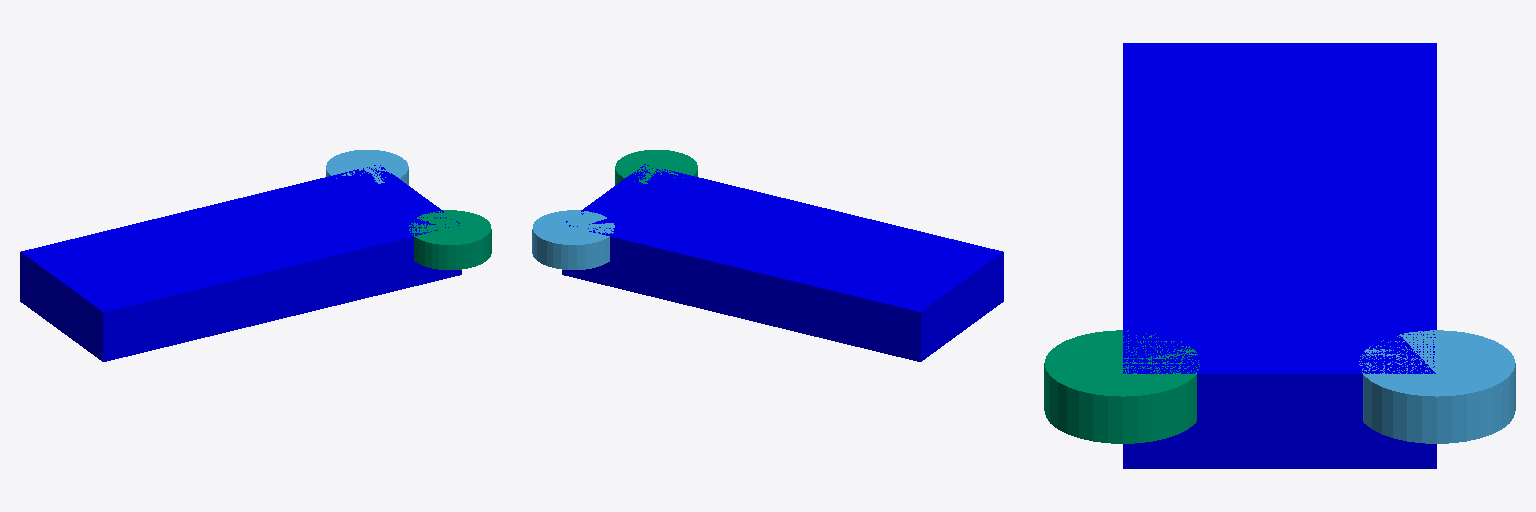
URDF robot description (ev_rwd):
<?xml version="1.0" ?>
<!-- =================================================================================== -->
<!-- |    This document was autogenerated by xacro from ev_rwd.urdf.xacro              | -->
<!-- |    EDITING THIS FILE BY HAND IS NOT RECOMMENDED                                 | -->
<!-- =================================================================================== -->
<robot name="ev_rwd">
  <!-- Base link (chassis) -->
  <link name="chassis">
    <inertial>
      <origin xyz="0 0 0.1"/>
      <mass value="250.0"/>
      <!-- Adjust mass value as needed -->
      <inertia ixx="10.0" ixy="0.0" ixz="0.0" iyy="20.0" iyz="0.0" izz="30.0"/>
    </inertial>
    <visual>
      <geometry>
        <box size="1.5 0.6 0.2"/>
      </geometry>
      <material name="blue">
        <color rgba="0.0 0.0 1.0 1.0"/>
      </material>
    </visual>
    <collision>
      <geometry>
        <box size="1.5 0.6 0.2"/>
      </geometry>
    </collision>
  </link>
  <!-- Define the rear wheels -->
  <link name="rear_left_wheel">
    <visual>
      <geometry>
        <cylinder length="0.1" radius="0.15"/>
      </geometry>
      <material name="black"/>
    </visual>
    <collision>
      <geometry>
        <cylinder length="0.1" radius="0.15"/>
      </geometry>
    </collision>
  </link>
  <link name="rear_right_wheel">
    <visual>
      <geometry>
        <cylinder length="0.1" radius="0.15"/>
      </geometry>
      <material name="black"/>
    </visual>
    <collision>
      <geometry>
        <cylinder length="0.1" radius="0.15"/>
      </geometry>
    </collision>
  </link>
  <!-- Rear wheel joints -->
  <joint name="rear_left_wheel_joint" type="continuous">
    <parent link="chassis"/>
    <child link="rear_left_wheel"/>
    <origin rpy="0 0 0" xyz="0.7 0.3 0.05"/>
    <axis xyz="0 1 0"/>
  </joint>
  <joint name="rear_right_wheel_joint" type="continuous">
    <parent link="chassis"/>
    <child link="rear_right_wheel"/>
    <origin rpy="0 0 0" xyz="0.7 -0.3 0.05"/>
    <axis xyz="0 1 0"/>
  </joint>
  <!-- Add front wheels and joints similarly (steerable) -->
</robot>

--- Render facts (derived) ---
The picture shows the robot from 3 angles, left to right: view 1: azimuth 30°, elevation 25°; view 2: azimuth 150°, elevation 25°; view 3: azimuth 270°, elevation 25°; orthographic projection.
Model ev_rwd with 3 links and 2 joints (2 continuous), rooted at chassis, posed all joints at 0.
Visible links, largest first — view 1: chassis, rear_right_wheel, rear_left_wheel; view 2: chassis, rear_left_wheel, rear_right_wheel; view 3: chassis, rear_left_wheel, rear_right_wheel.
Link boxes in pixels (x1=…): chassis: x1=20, y1=165, x2=461, y2=361; rear_right_wheel: x1=409, y1=210, x2=491, y2=269; rear_left_wheel: x1=326, y1=150, x2=408, y2=185; chassis: x1=562, y1=164, x2=1003, y2=361; rear_left_wheel: x1=532, y1=210, x2=614, y2=269; rear_right_wheel: x1=615, y1=150, x2=697, y2=185; chassis: x1=1123, y1=43, x2=1436, y2=468; rear_left_wheel: x1=1359, y1=330, x2=1515, y2=443; rear_right_wheel: x1=1044, y1=330, x2=1199, y2=443.
Bounding box of the posed robot: 1.6 × 0.9 × 0.2 m (x, y, z).
Geometry: primitives only (box / cylinder / sphere), no mesh files.